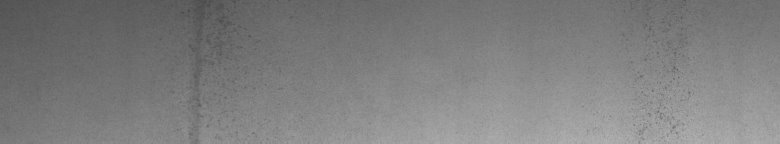ib: (641, 66, 684, 136)
